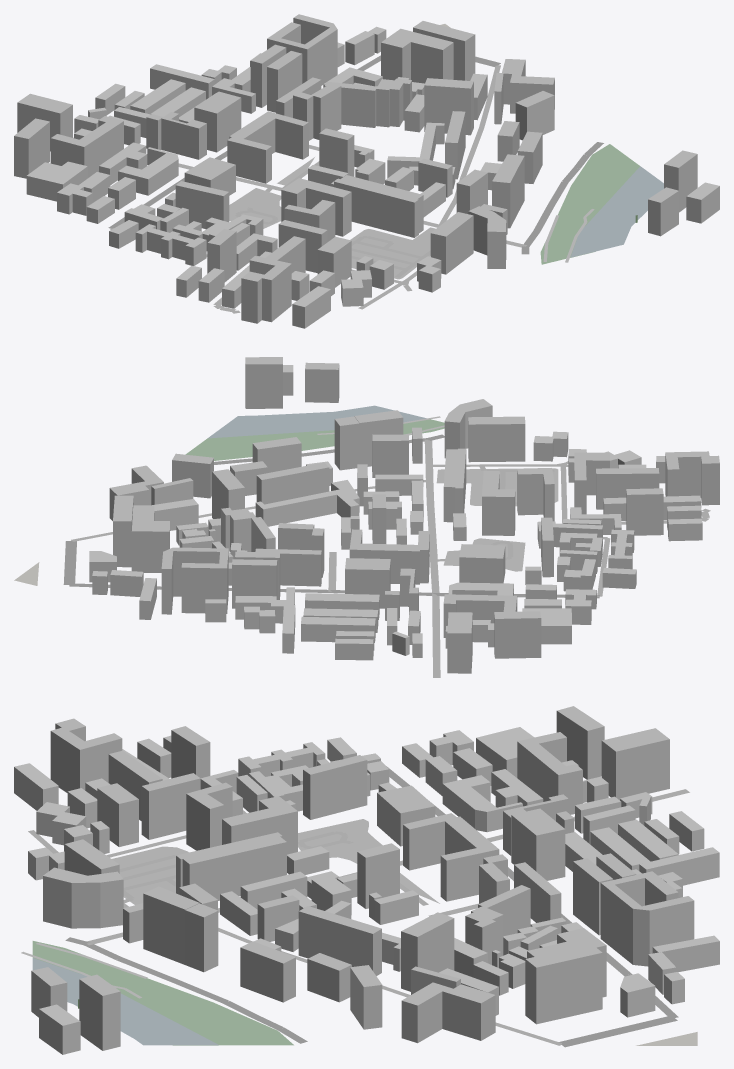
3 views of the same model, one above another, from view 1: azimuth 30°, elevation 25°; view 2: azimuth 150°, elevation 25°; view 3: azimuth 270°, elevation 25° (orthographic). The views are drawn at different scales.
Size of the model in its own units: 538 by 48.12 by 531.
